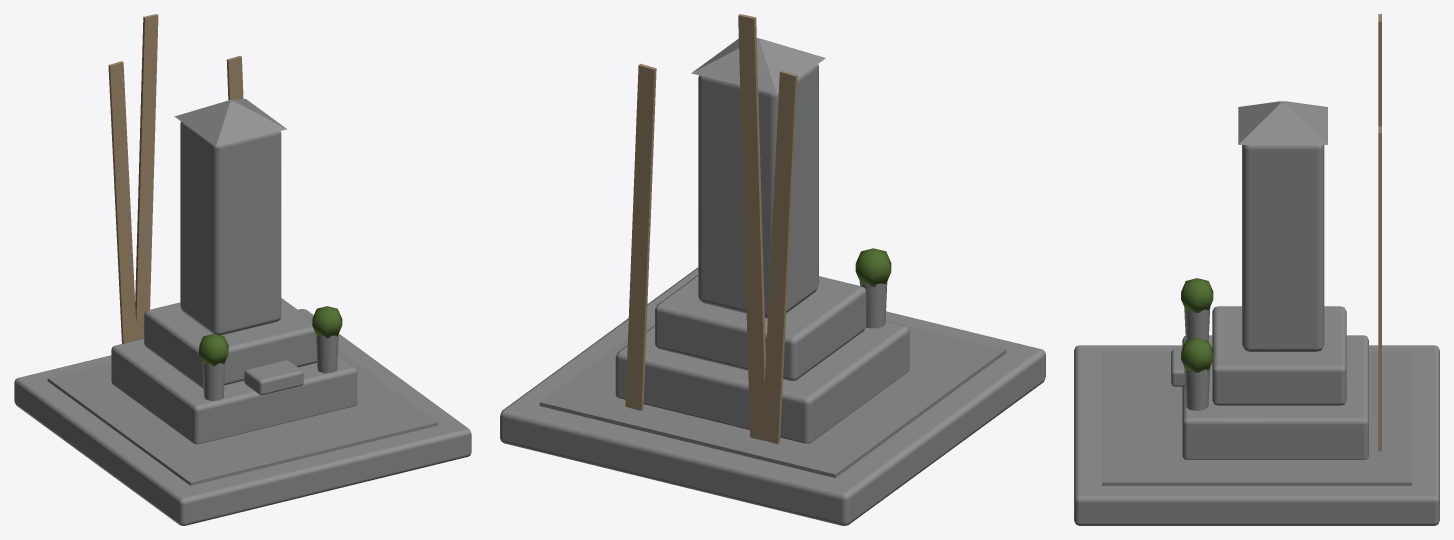
File: village-grave.glb
3 views of the same model, side by side, from view 1: azimuth 30°, elevation 25°; view 2: azimuth 150°, elevation 25°; view 3: azimuth 270°, elevation 25° (orthographic). The views are drawn at different scales.
Visible parts, largest first — view 1: village-stone, village-cobble, planks, moss; view 2: village-stone, planks, village-cobble, moss; view 3: village-stone, village-cobble, moss, planks.
Part boxes in pixels (left/top/right/bottom): village-stone: left=14, top=99, right=471, bottom=525; village-cobble: left=47, top=349, right=438, bottom=485; planks: left=108, top=14, right=243, bottom=343; moss: left=199, top=306, right=342, bottom=365; village-stone: left=500, top=38, right=1045, bottom=525; planks: left=625, top=14, right=797, bottom=444; village-cobble: left=539, top=318, right=1006, bottom=477; moss: left=855, top=248, right=891, bottom=286; village-stone: left=1074, top=101, right=1439, bottom=525; village-cobble: left=1102, top=351, right=1411, bottom=485; moss: left=1181, top=278, right=1213, bottom=372; planks: left=1378, top=14, right=1381, bottom=451.
Bounding box in the file's own units: 1.96 × 2.45 × 1.96.
